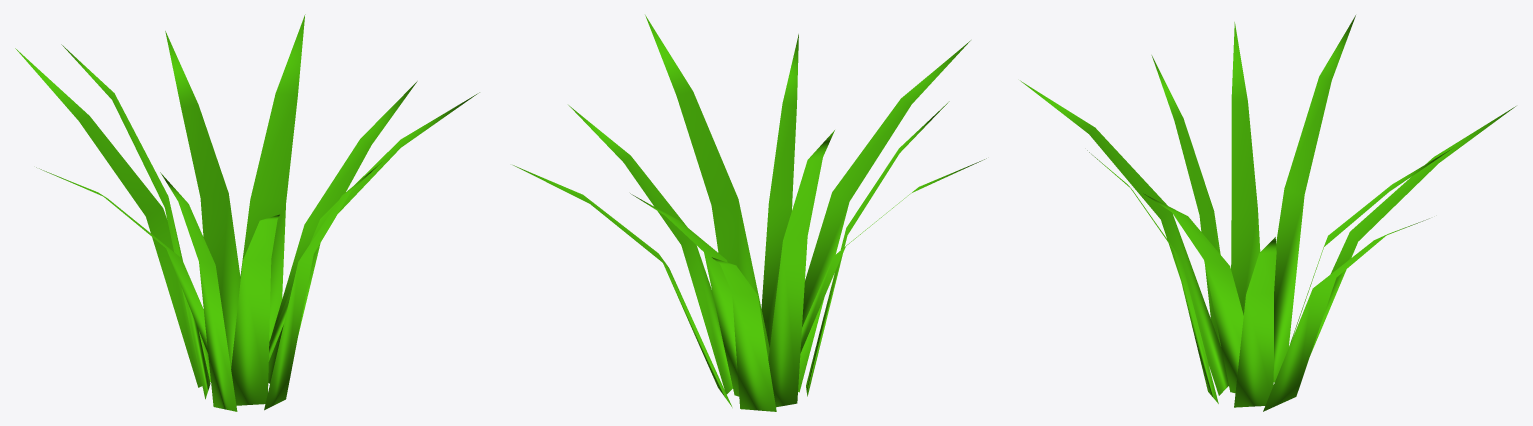
The model's file is GrassMesh.fbx.
3 renders of one model, left to right at view 1: azimuth 30°, elevation 25°; view 2: azimuth 150°, elevation 25°; view 3: azimuth 270°, elevation 25°, orthographic. The views are drawn at different scales.
Parts seen in each view (by area): view 1: Grass; view 2: Grass; view 3: Grass.
Boxes of the visible parts, left/top/right/bottom form: Grass: left=15, top=14, right=479, bottom=411; Grass: left=513, top=15, right=986, bottom=411; Grass: left=1020, top=15, right=1515, bottom=411.
Size of the model in its own units: 108 by 86.32 by 122.
